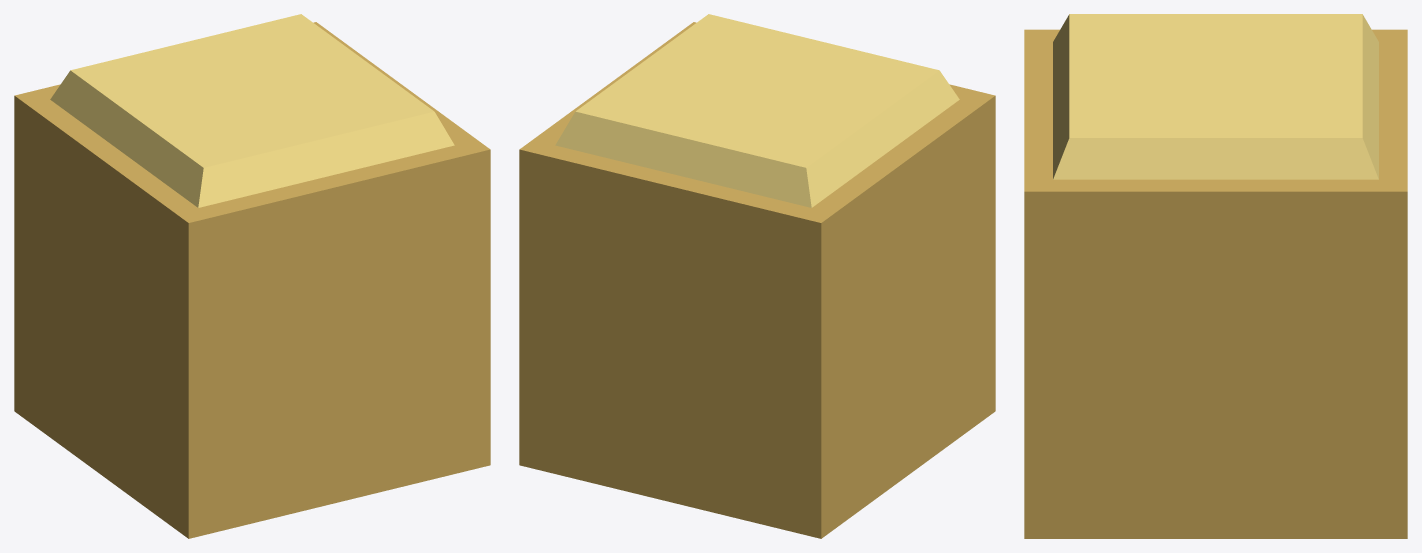
Rendered from Egypt_Block.fbx.
The picture shows the model from 3 angles, left to right: view 1: azimuth 30°, elevation 25°; view 2: azimuth 150°, elevation 25°; view 3: azimuth 270°, elevation 25°; orthographic projection. The views are drawn at different scales.
Visible parts, largest first — view 1: Egypt_Block; view 2: Egypt_Block; view 3: Egypt_Block.
Boxes of the visible parts, x1,y1,x2,y2 form: Egypt_Block: (14,14,490,538); Egypt_Block: (519,14,995,538); Egypt_Block: (1024,14,1407,538).
Bounding box in the file's own units: 100 × 110 × 100.
